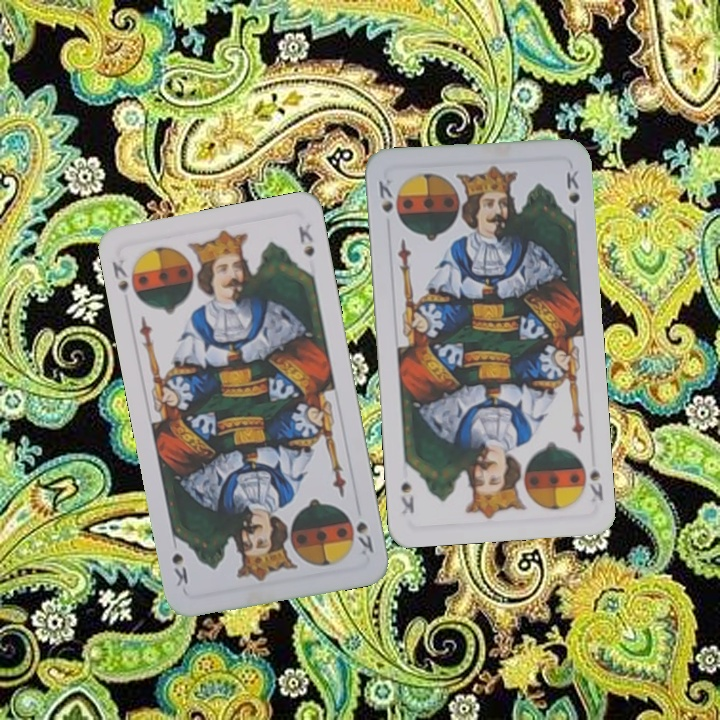SK: (352, 517, 376, 558), (108, 255, 131, 294), (374, 175, 396, 215), (585, 466, 606, 505)
